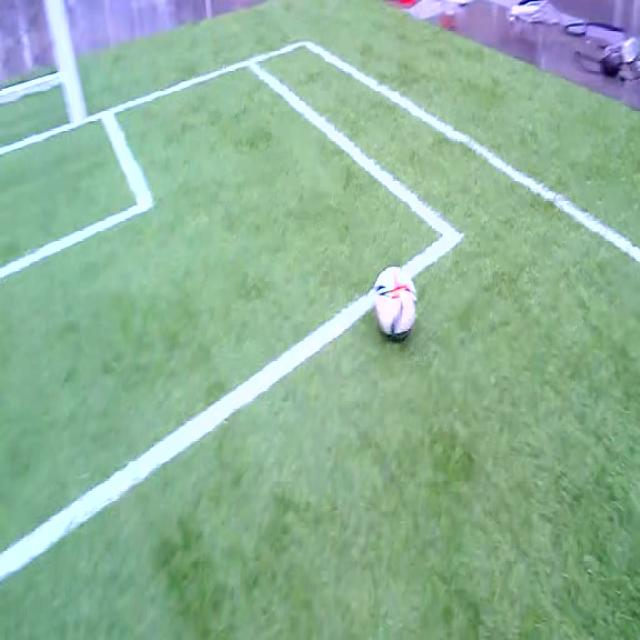ball: (374, 268, 416, 340)
